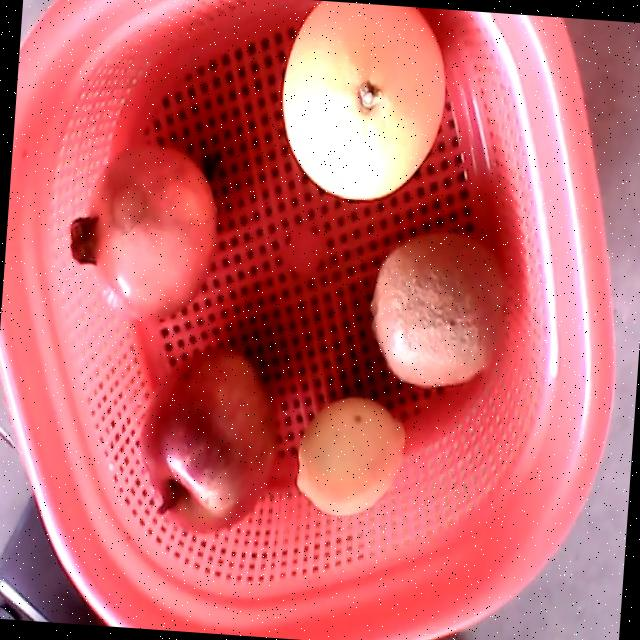apple: (137, 345, 274, 533)
kiwi: (368, 230, 507, 386)
lemon: (294, 397, 404, 516)
orange: (280, 1, 443, 199)
pomegranate: (68, 142, 215, 320)
